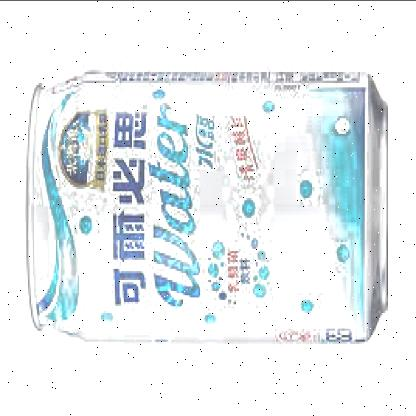Can: (19, 57, 409, 349)
